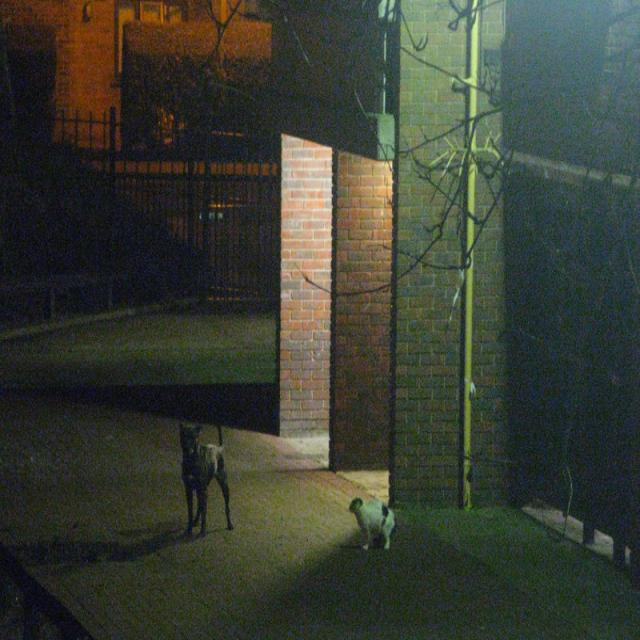Dog: (158, 420, 241, 568), (343, 487, 411, 564)
